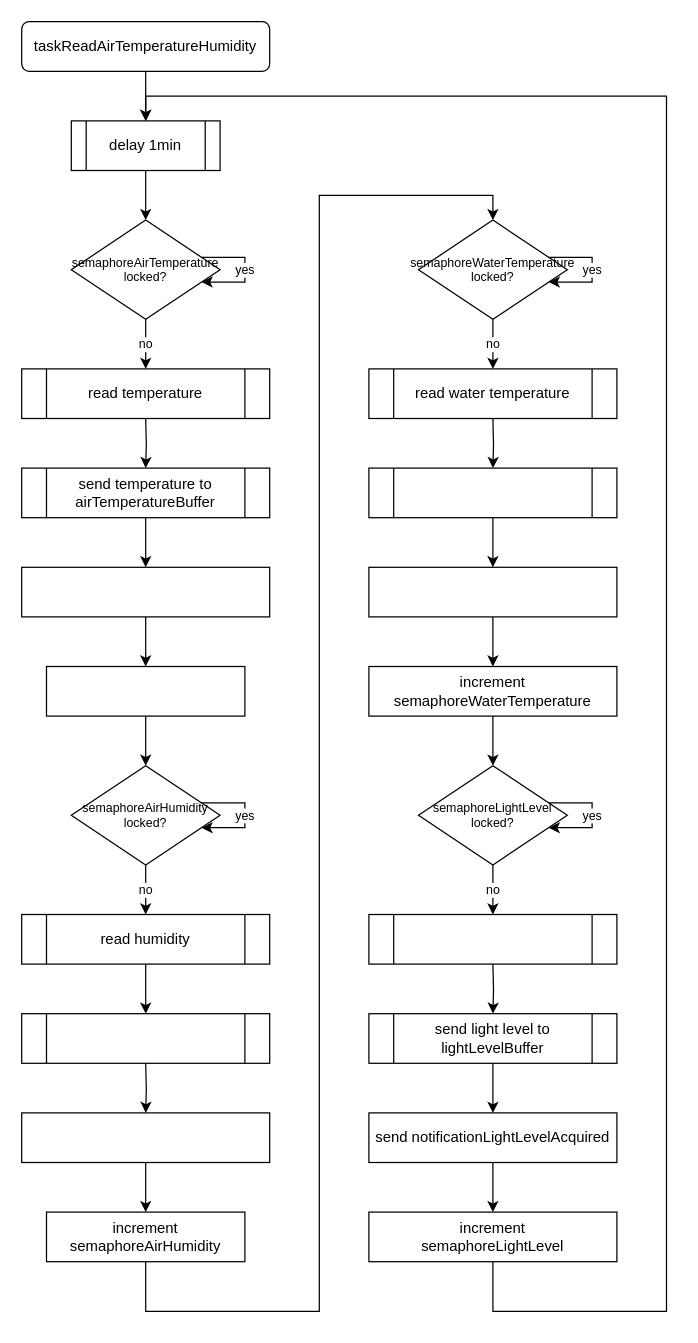
Some shapes in this 698 by 1343 pixel diagram are drawn without their labels. The shapes that lost their labels are listed below. From the top down, each one's box as (x1, y1, x2, y2) in pixels, then its label:
(368, 467, 617, 518): send temperature to waterTemperatureBuffer
(20, 566, 270, 617): send notificationAirTemperatureAcquired
(368, 566, 617, 617): send notificationWaterTemperatureAcquired
(45, 665, 245, 716): increment semaphoreAirTemperature
(368, 913, 617, 964): read LDR
(20, 1012, 270, 1063): send temperature to airHumidityBuffer
(20, 1112, 270, 1162): send notificationAirHumidityAcquired
